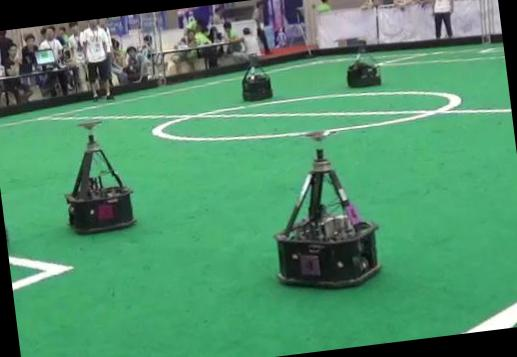person: (79, 19, 113, 99)
robot: (274, 149, 378, 287), (66, 134, 132, 232), (346, 39, 379, 87), (241, 53, 272, 99)
